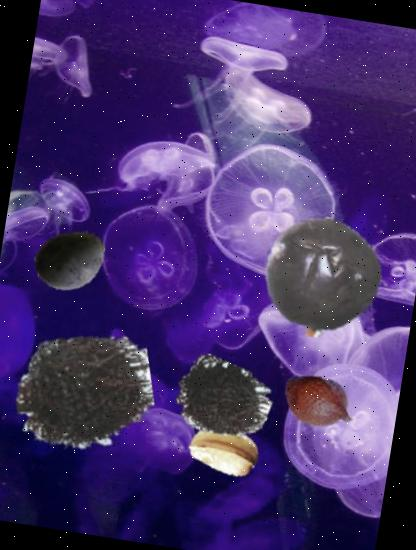Carambula: (185, 410, 265, 490)
Passion: (253, 208, 393, 348)
Plum: (30, 221, 112, 302)
Rambutan: (5, 314, 163, 472), (167, 345, 278, 456)
Salak: (276, 359, 362, 446)
